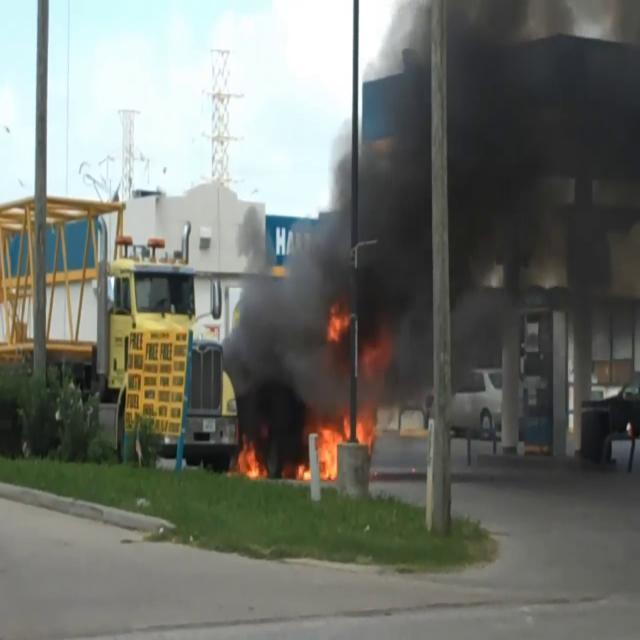Fire: (303, 405, 372, 485), (235, 434, 265, 484)
Smoke: (217, 0, 640, 411)
